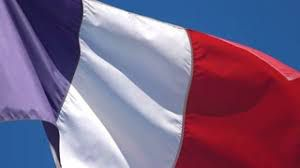French Flag: (1, 1, 300, 168)
